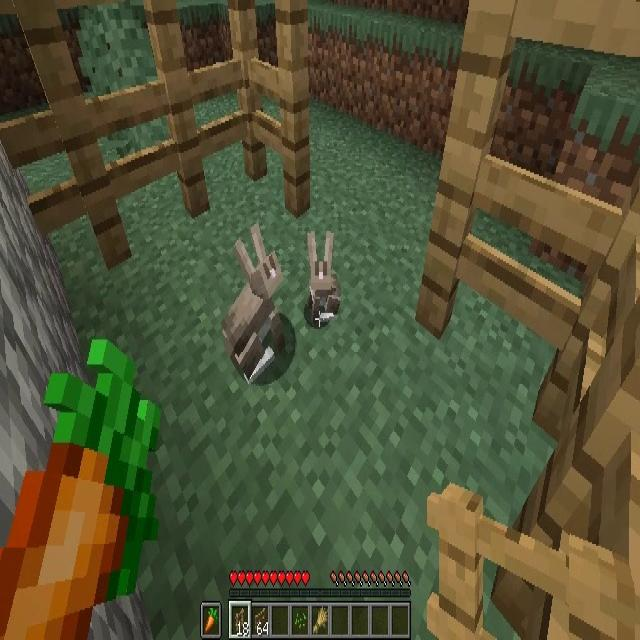duck: (223, 223, 287, 386)
rabbit: (308, 232, 338, 324)
